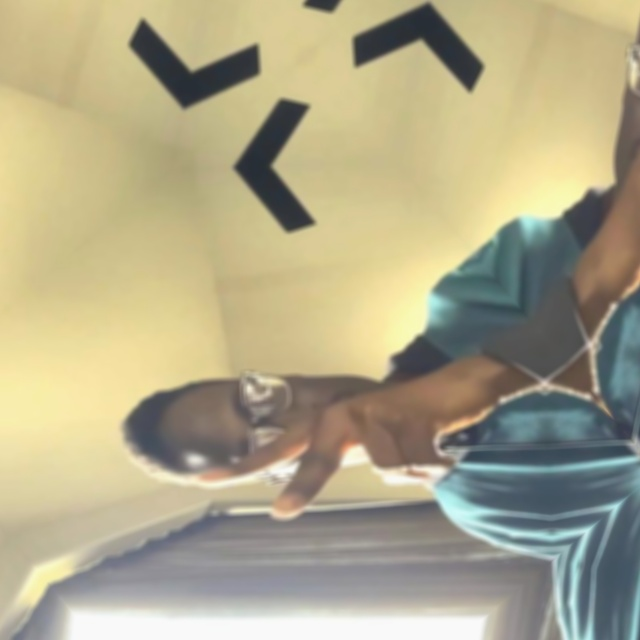Scissors: (0, 0, 159, 174)
